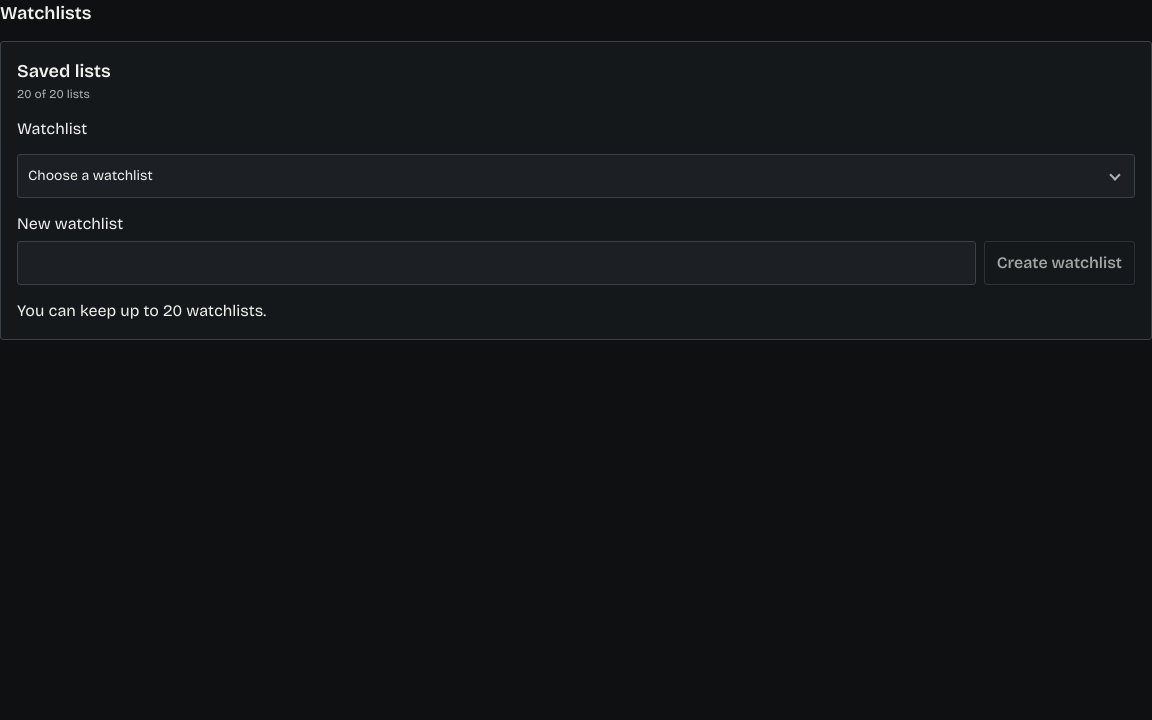
Test case: Watchlists › stops new lists at 20 and new symbols at 50 while rename and delete stay available
Expected: the text "You can keep up to 20 watchlists." is shown, [17,301,266,320]
Expected: the field labelled "New watchlist" is disabled, [17,241,976,285]
Select "List 1" in the dropdown labelled "Watchlist". click: (576, 176)
box: [17,154,1135,198]
(page scrolled)
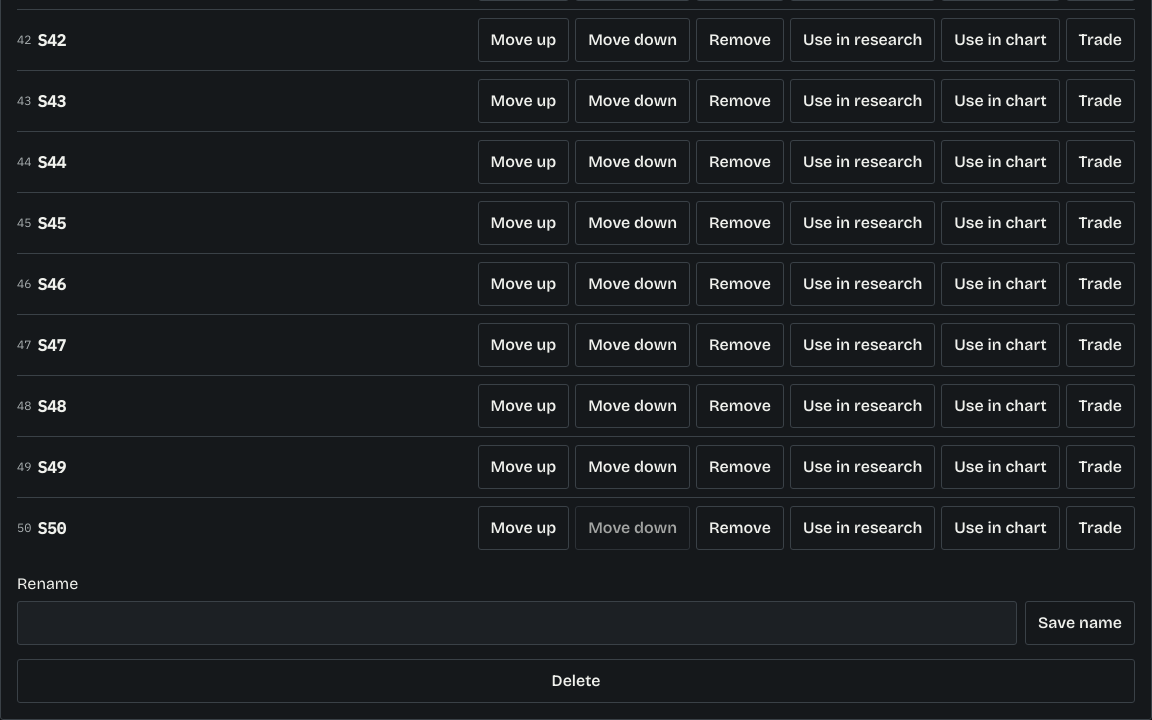
Expected: the field labelled "Rename" is enabled, [17,601,1017,645]
Expected: the button "Save name" is enabled, [1025,601,1135,645]
Expected: the button "Delete" is enabled, [17,659,1135,703]
